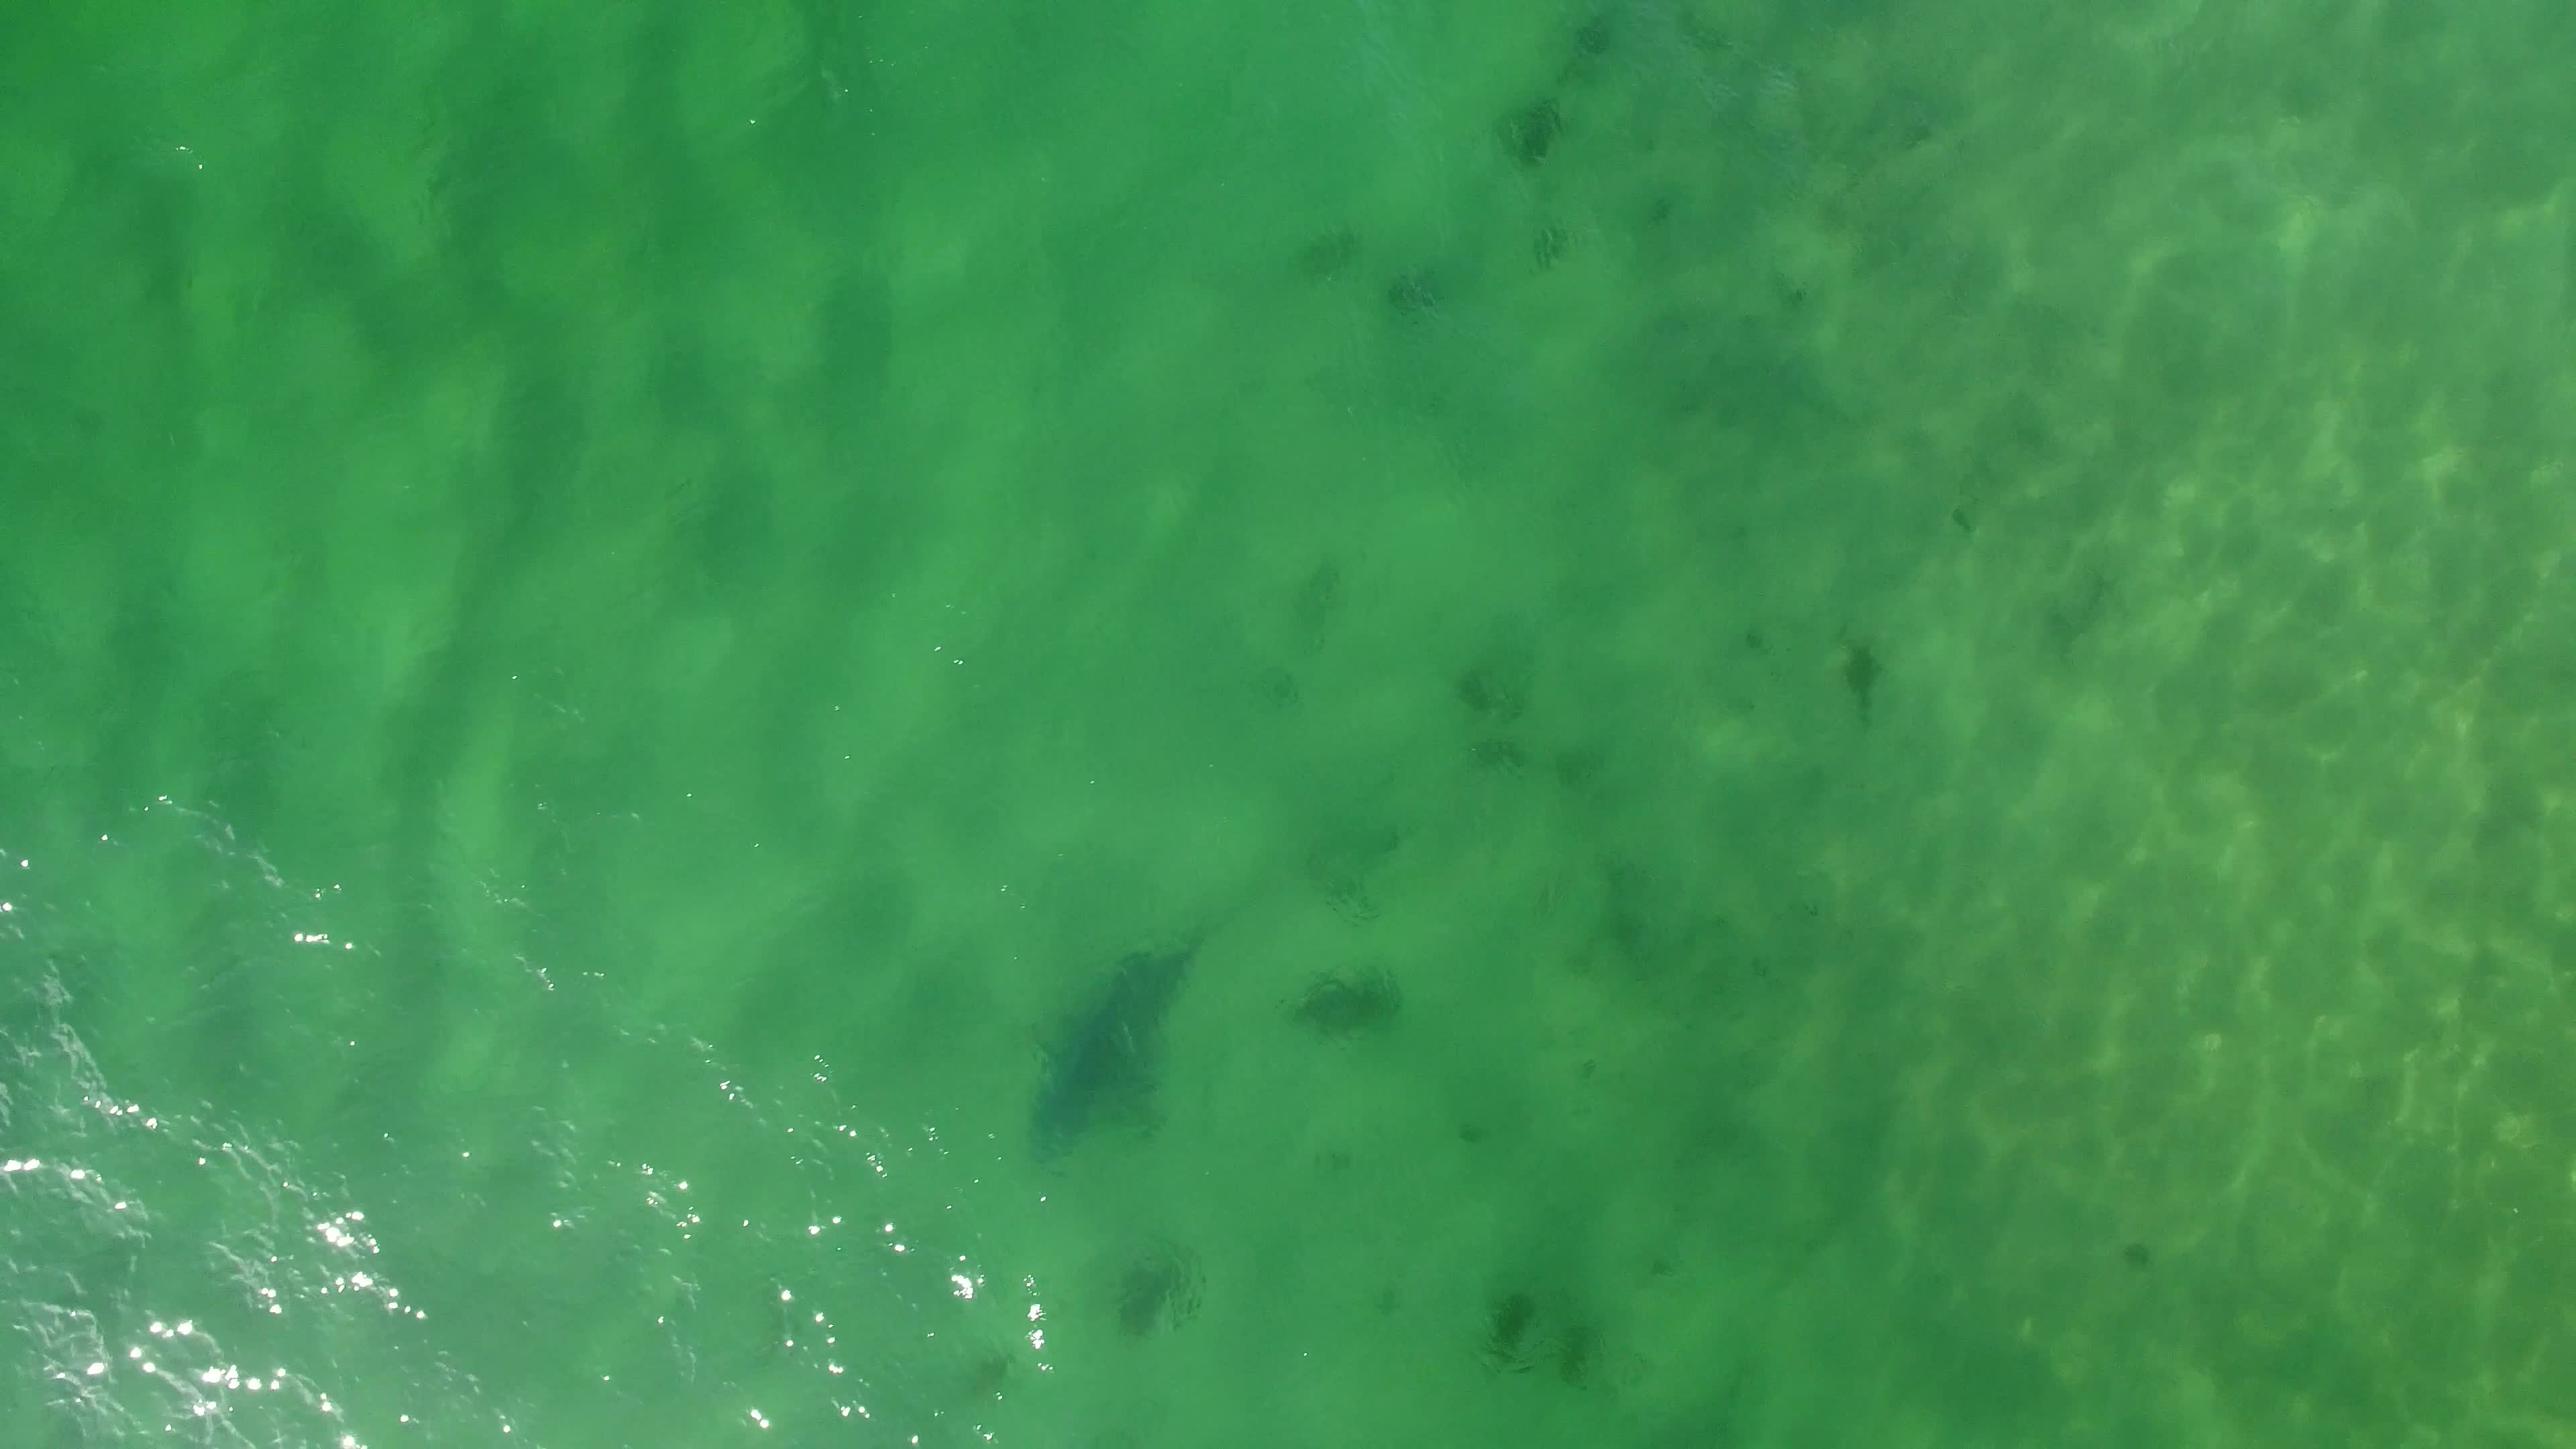shark: (1021, 927, 1196, 1166)
